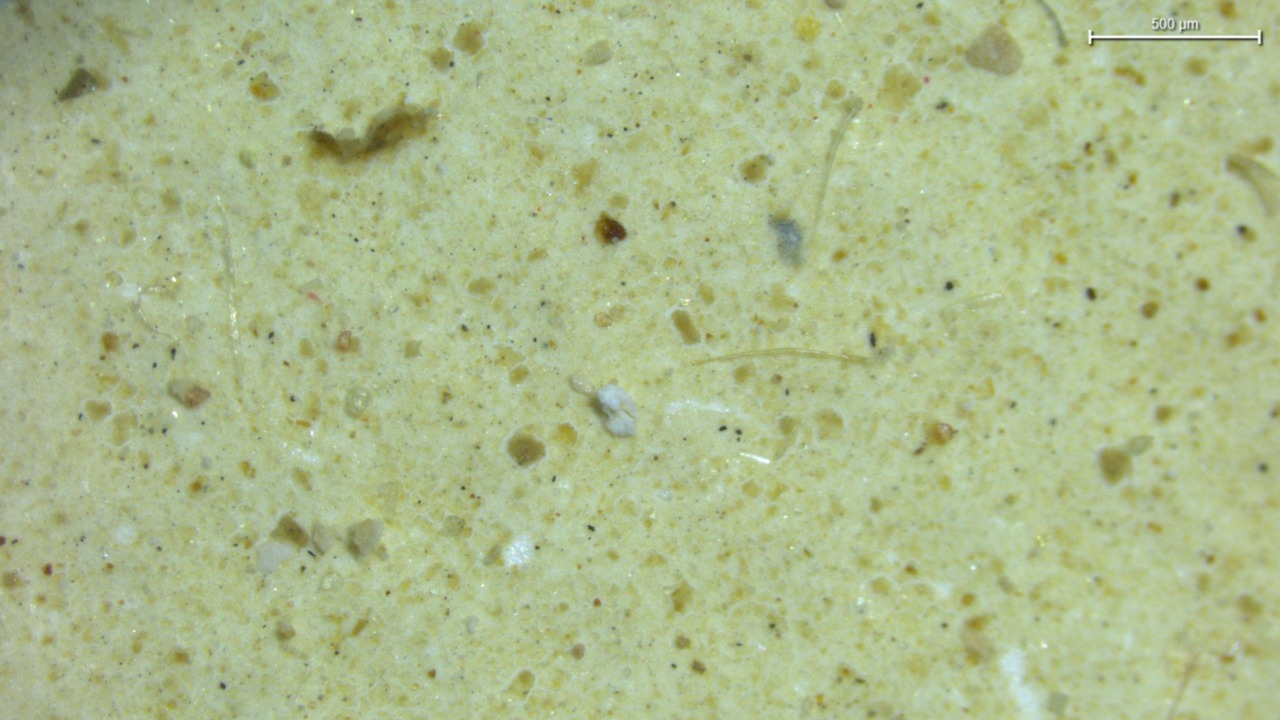microplastic_fragment: (966, 24, 1022, 75), (596, 384, 638, 436), (347, 519, 382, 554), (168, 379, 210, 408)
